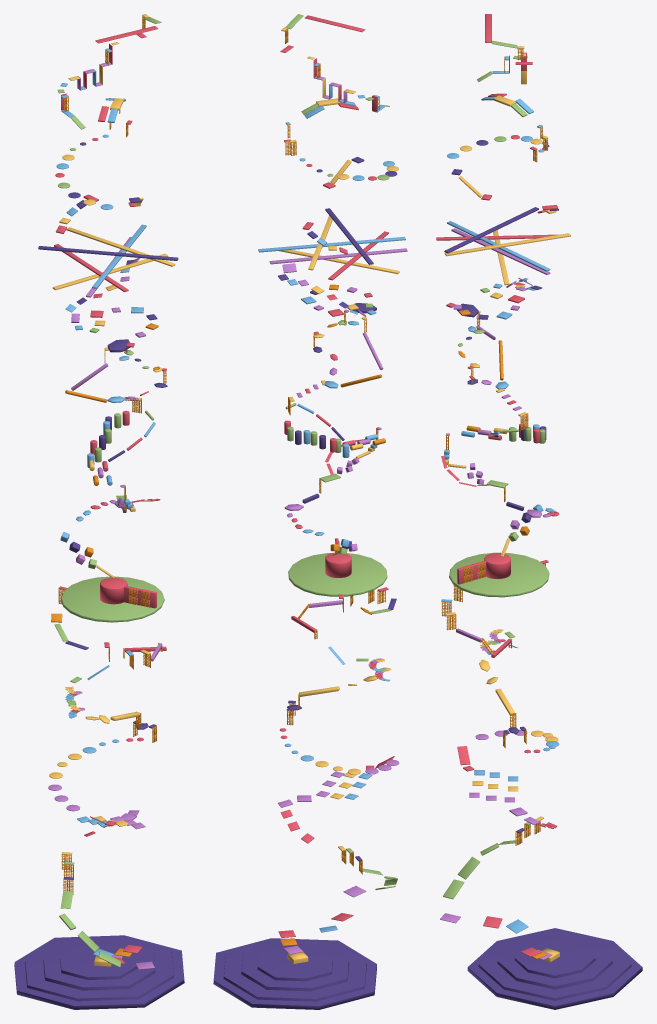
The model's file is Map.fbx.
3 views of the same model, side by side, from view 1: azimuth 30°, elevation 25°; view 2: azimuth 150°, elevation 25°; view 3: azimuth 270°, elevation 25° (orthographic). The views are drawn at different scales.
Visible parts, largest first — view 1: Map_1.1161, Map_1.934, Map_1.936, Map_1.1096, Map_1.935, Map_1.1101, Map_1.1095, Map_1.1092; view 2: Map_1.1161, Map_1.934, Map_1.936, Map_1.1092, Map_1.1099; view 3: Map_1.1161, Map_1.934, Map_1.936, Map_1.1101, Map_1.1092.
Part boxes in pixels (x1,y1,x2,y2): Map_1.1161: (14,935,184,1009); Map_1.934: (61,576,164,622); Map_1.936: (100,577,127,604); Map_1.1096: (38,246,178,260); Map_1.935: (124,586,156,608); Map_1.1101: (66,227,175,266); Map_1.1095: (52,253,167,290); Map_1.1092: (92,224,146,288); Map_1.1161: (213,938,376,1009); Map_1.934: (288,553,387,596); Map_1.936: (325,552,351,577); Map_1.1092: (258,237,405,252); Map_1.1099: (269,248,407,264); Map_1.1161: (467,928,642,1009); Map_1.934: (449,552,549,597); Map_1.936: (484,553,510,579); Map_1.1101: (444,233,570,256); Map_1.1092: (447,221,550,271).
Bounding box in the file's own units: 8519 × 47784 × 9495.
